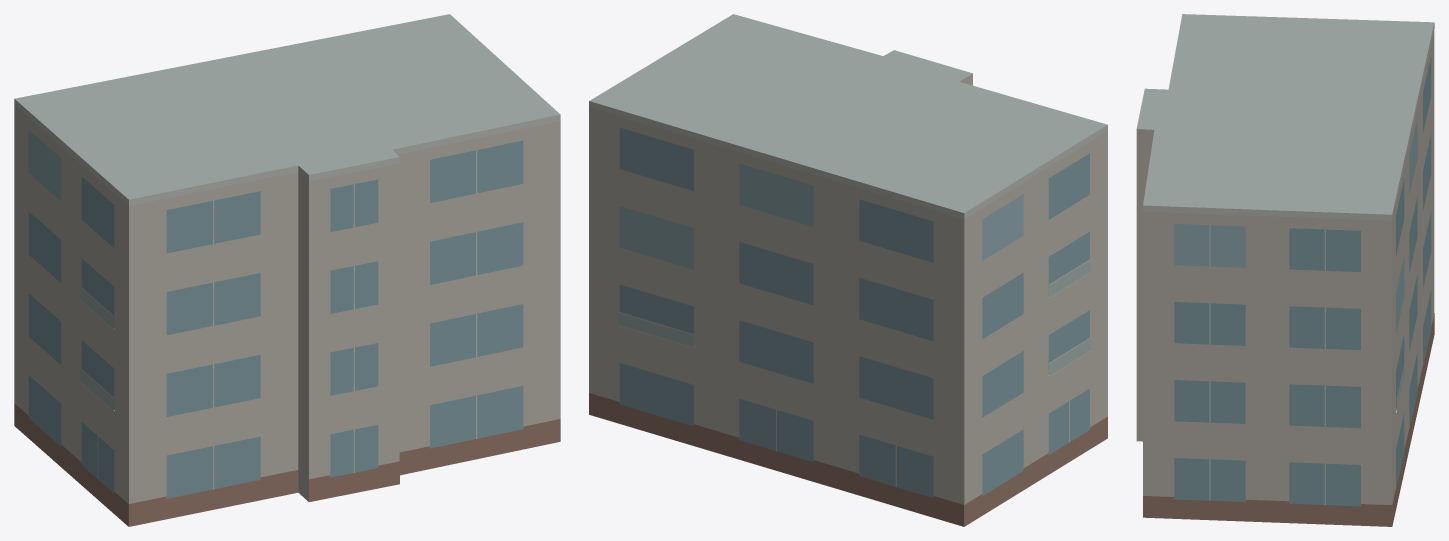
The model's file is survey-upis-32704172.glb.
3 views of the same model, side by side, from view 1: azimuth 30°, elevation 25°; view 2: azimuth 150°, elevation 25°; view 3: azimuth 270°, elevation 25° (orthographic). The views are drawn at different scales.
Visible parts, largest first — view 1: survey-upis-32704172.tmp; view 2: survey-upis-32704172.tmp; view 3: survey-upis-32704172.tmp.
Boxes of the visible parts, x1,y1,x2,y2 form: survey-upis-32704172.tmp: (14, 14, 560, 526); survey-upis-32704172.tmp: (589, 14, 1107, 526); survey-upis-32704172.tmp: (1136, 14, 1434, 526).
Size of the model in its own units: 17.66 by 12.8 by 11.08.
